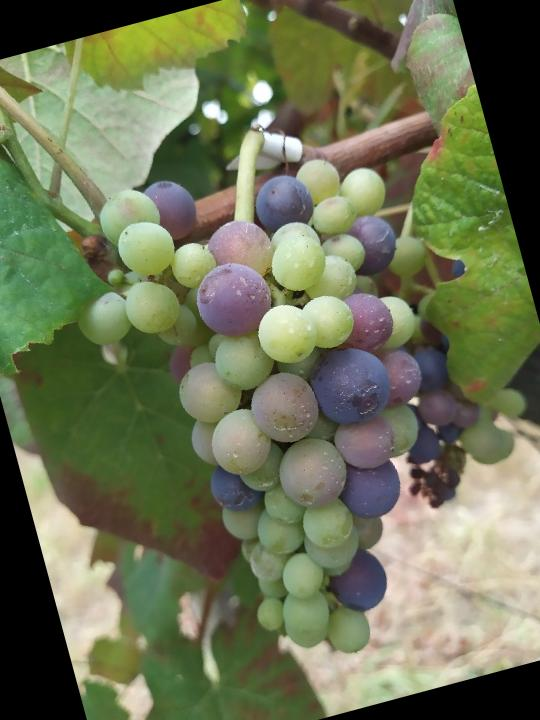grape: (43, 122, 502, 702)
